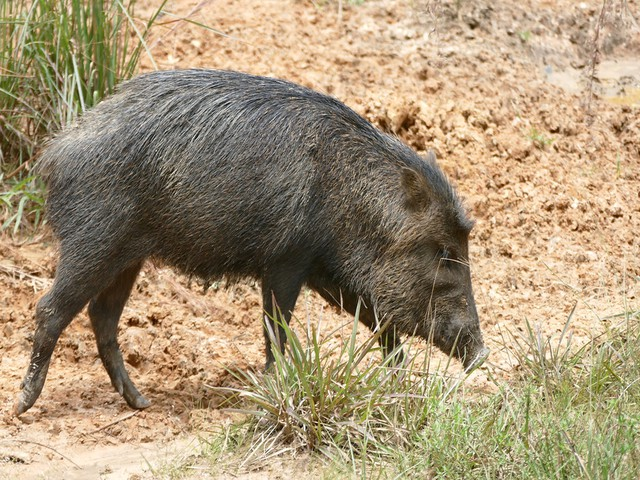Pig: (23, 64, 498, 381)
